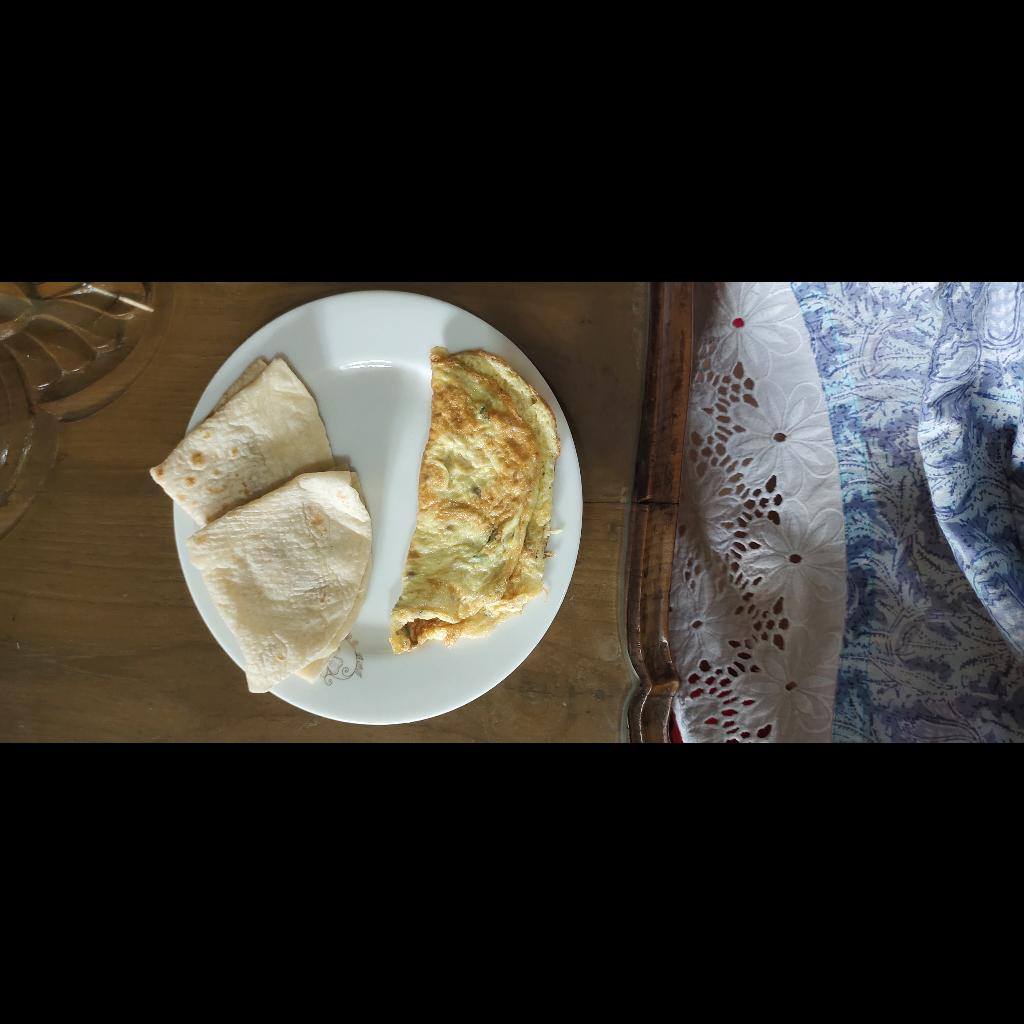egg-poached: (83, 669, 398, 839)
ruti: (49, 421, 394, 661)
